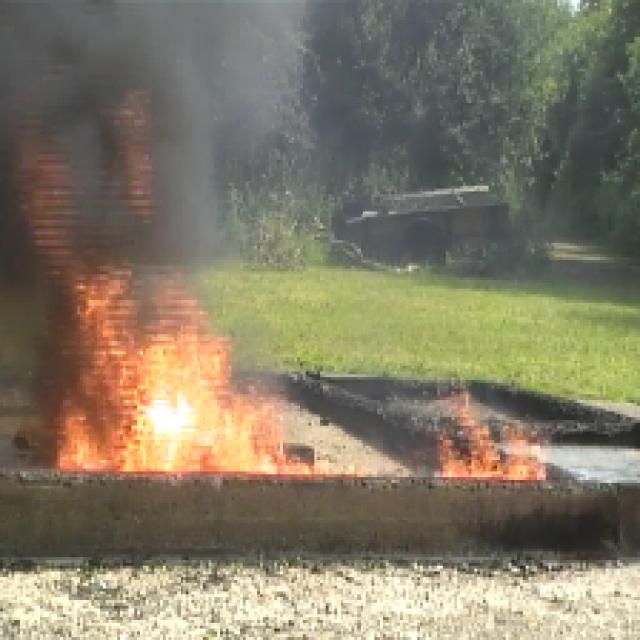fire: (72, 332, 262, 474)
smoke: (31, 9, 235, 269)
